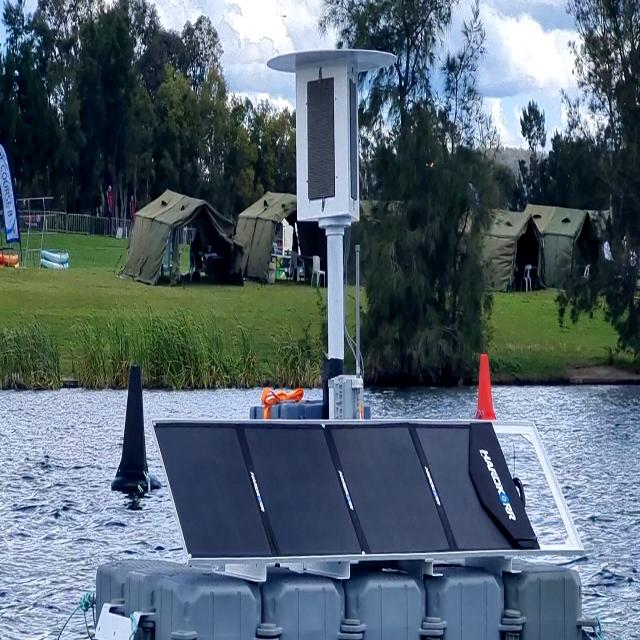led: (299, 66, 344, 211)
